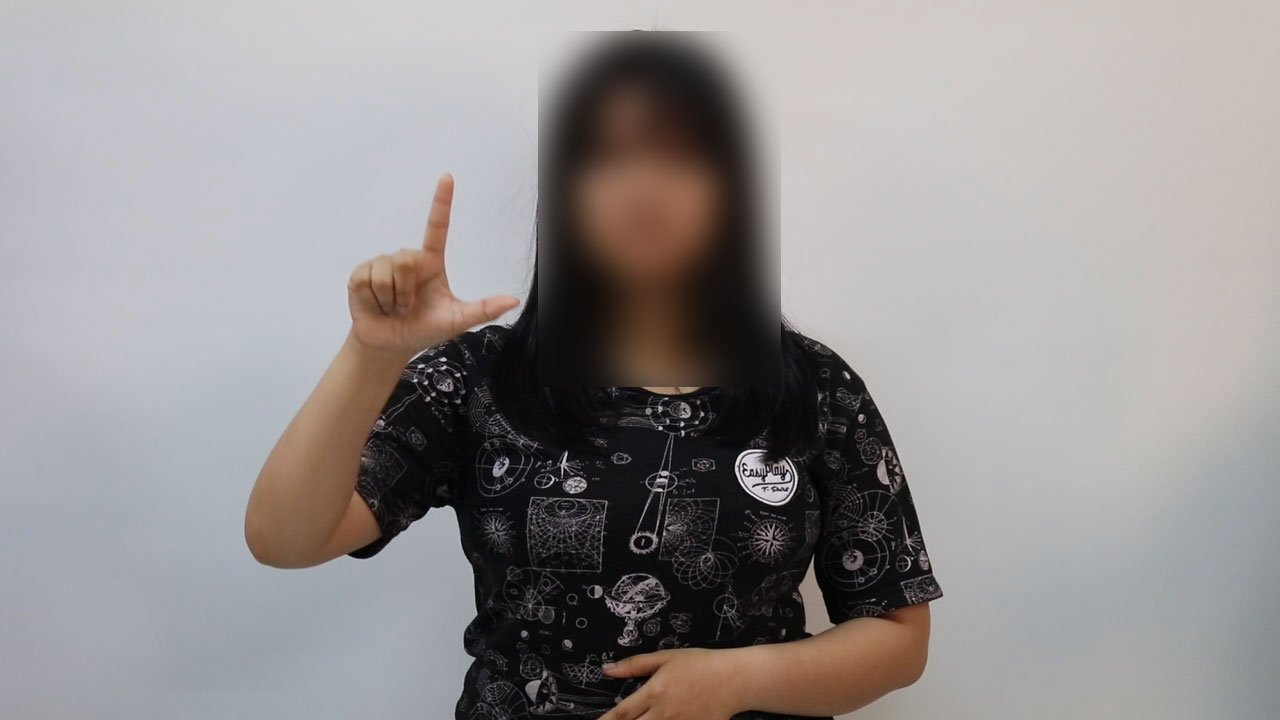lor: (326, 164, 535, 368)
